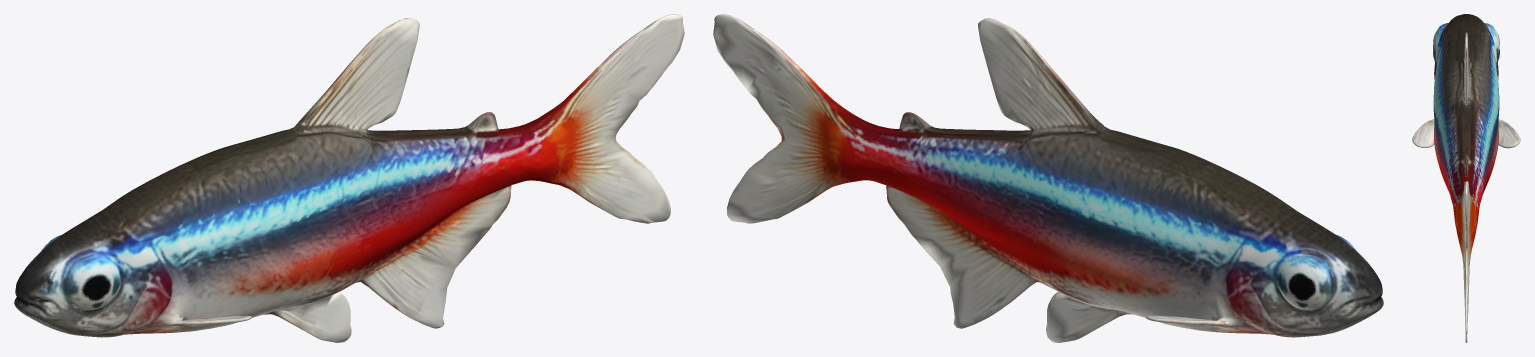
The model's file is neon-tetra.glb.
The picture shows the model from 3 angles, left to right: view 1: azimuth 30°, elevation 25°; view 2: azimuth 150°, elevation 25°; view 3: azimuth 270°, elevation 25°; orthographic projection. The views are drawn at different scales.
Parts seen in each view (by area): view 1: node_0; view 2: node_0; view 3: node_0.
Boxes of the visible parts, left/top/right/bottom form: node_0: left=14, top=14, right=684, bottom=342; node_0: left=713, top=14, right=1383, bottom=342; node_0: left=1412, top=14, right=1520, bottom=342.
Bounding box in the file's own units: 1.17 × 0.5296 × 0.209.
1 material, 1 textured.
